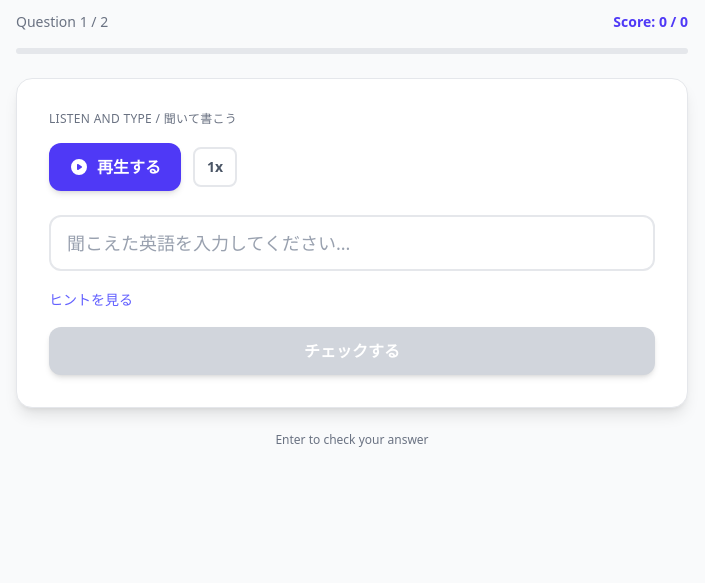
Test: Dictation › grades a clearly wrong answer as Incorrect and shows the typed answer
Type "totally different text here" into the field labelled "聞こえた英語を入力" at (352, 243), box [49,215,655,271]
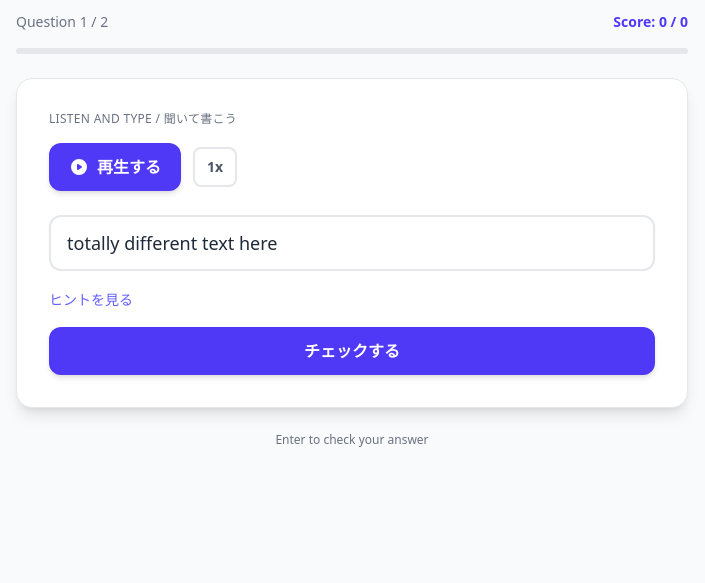
Click the button "チェックする" at (352, 351), box [49,327,655,375]
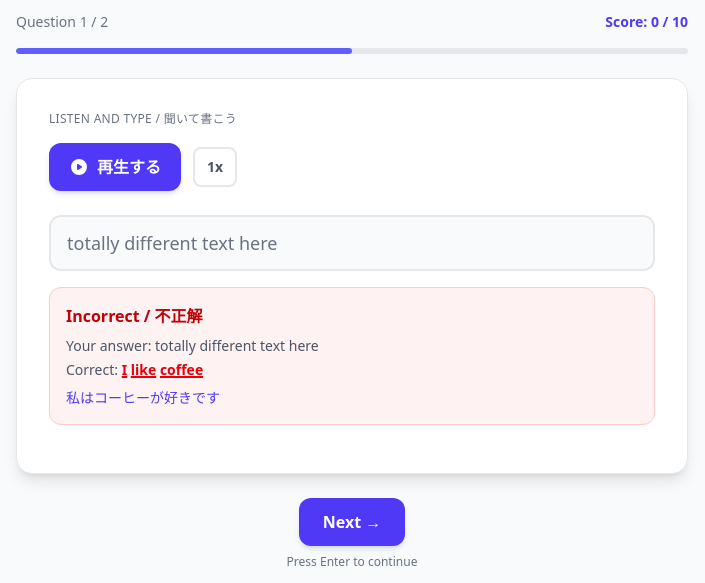
Now the text "Incorrect / 不正解" is shown, box [66,305,203,327]
Now the text "totally different text here" is shown, box [155,336,319,355]
